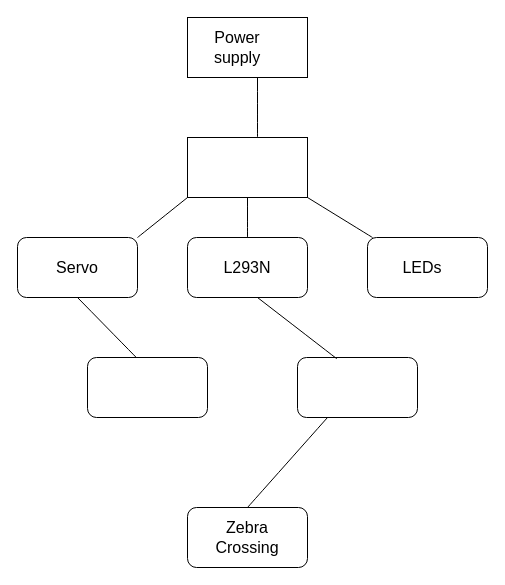
Some shapes in this 505 by 585 pixel diagram are drawn without their labels. Here are the shapes that lost their labels. From the top down, the centre of each, then its label:
(x=247, y=167): Arduino UNO
(x=147, y=387): Gates
(x=357, y=387): DC Motor
